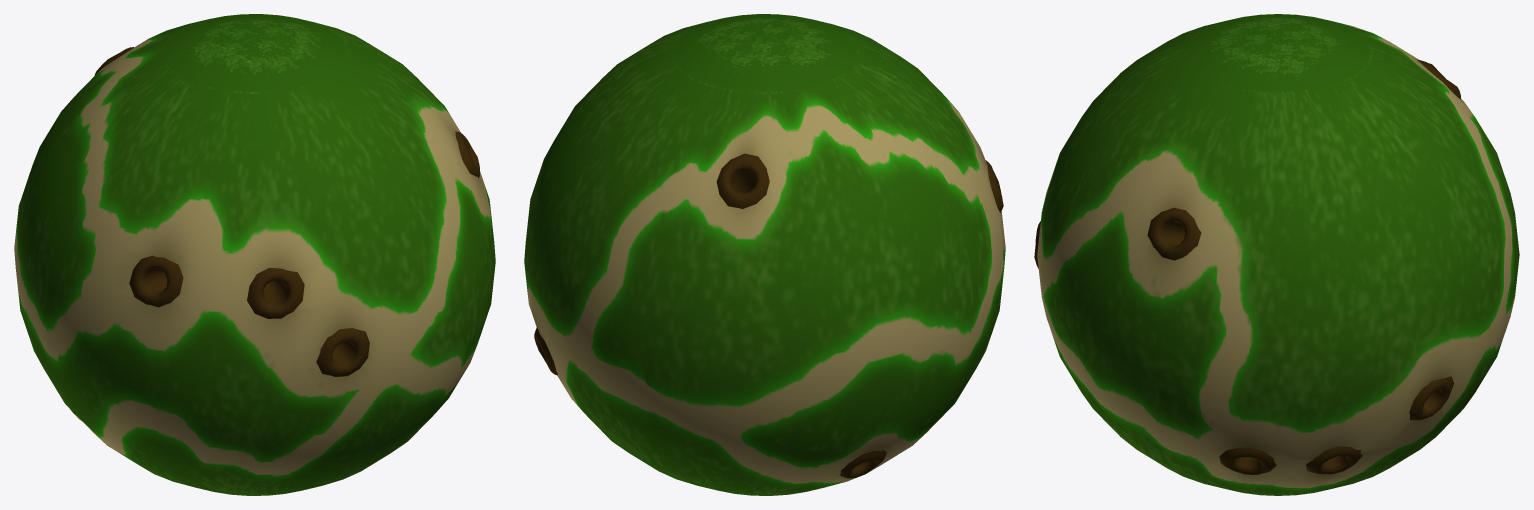
The model's file is SM_MapModelDrill.FBX.
3 views of the same model, side by side, from view 1: azimuth 30°, elevation 25°; view 2: azimuth 150°, elevation 25°; view 3: azimuth 270°, elevation 25° (orthographic).
Visible parts, largest first — view 1: Sphere001; view 2: Sphere001; view 3: Sphere001.
Part boxes in pixels (box(x1,y1,x2,y2)): Sphere001: box(14, 14, 495, 495); Sphere001: box(524, 14, 1005, 495); Sphere001: box(1034, 14, 1519, 495).
Size of the model in its own units: 200 by 200 by 201.
Materials: 3 (2 with a texture image).
